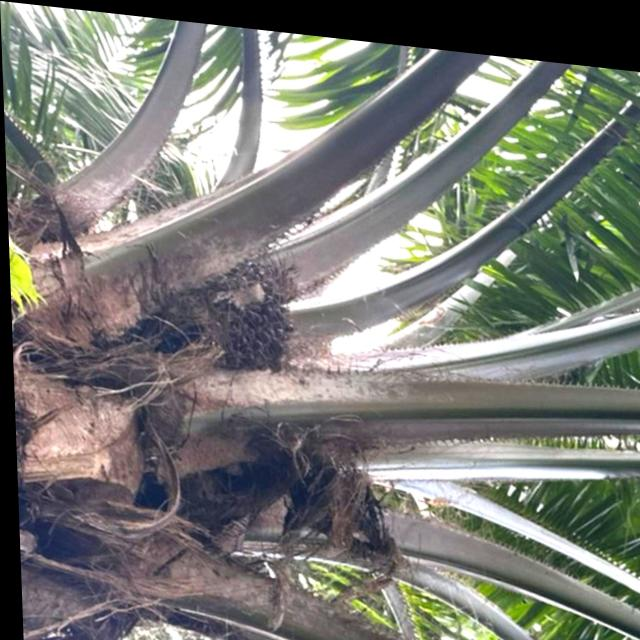ripe: (202, 248, 297, 380)
